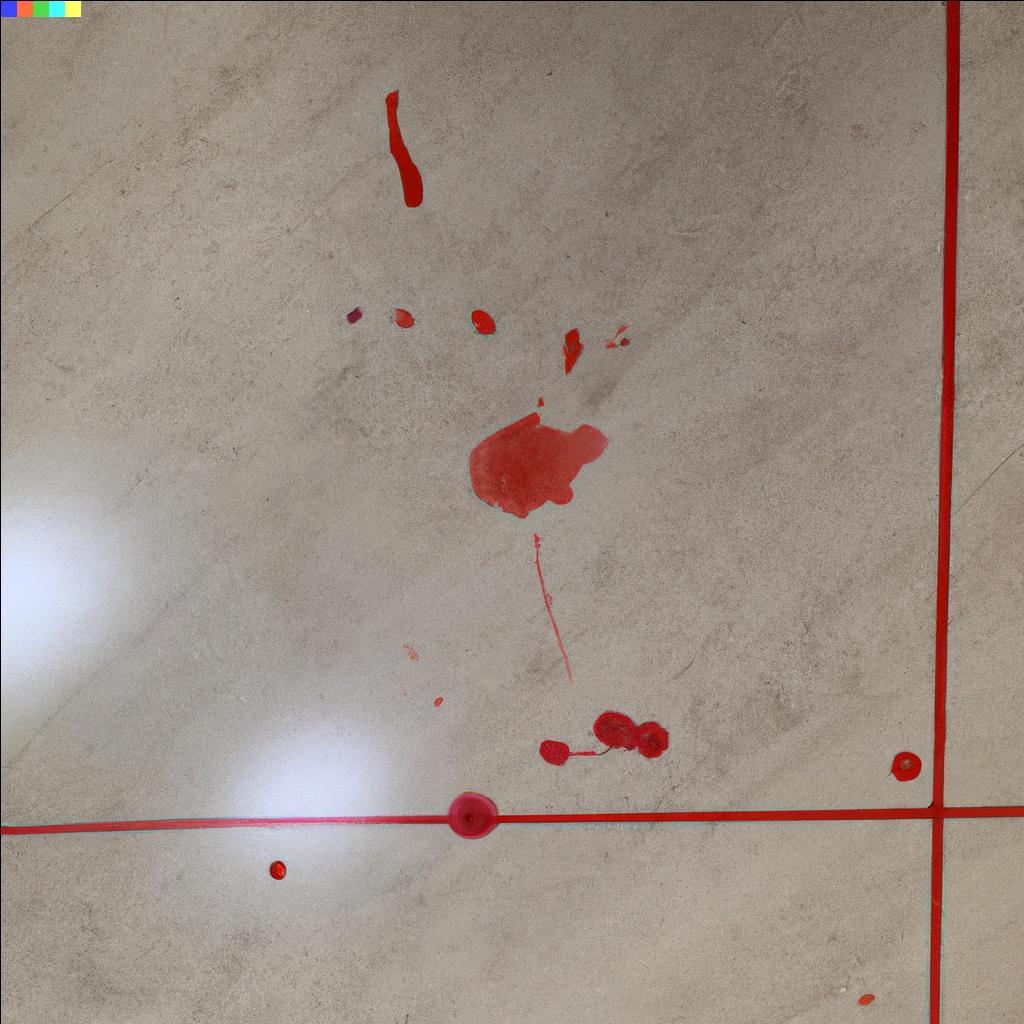Fire: (468, 412, 608, 519), (385, 88, 423, 208), (592, 712, 669, 758), (446, 791, 498, 839), (539, 739, 598, 766), (890, 751, 921, 781), (471, 309, 495, 334), (395, 308, 414, 328)
